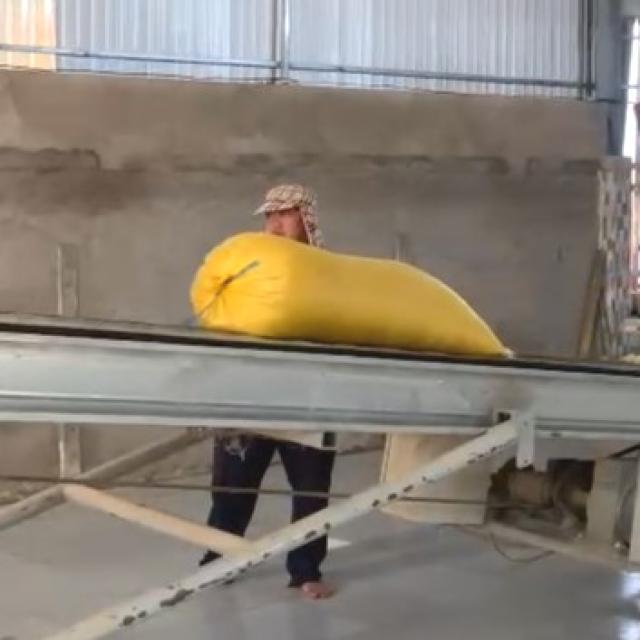gunny_bag: (190, 232, 513, 357)
